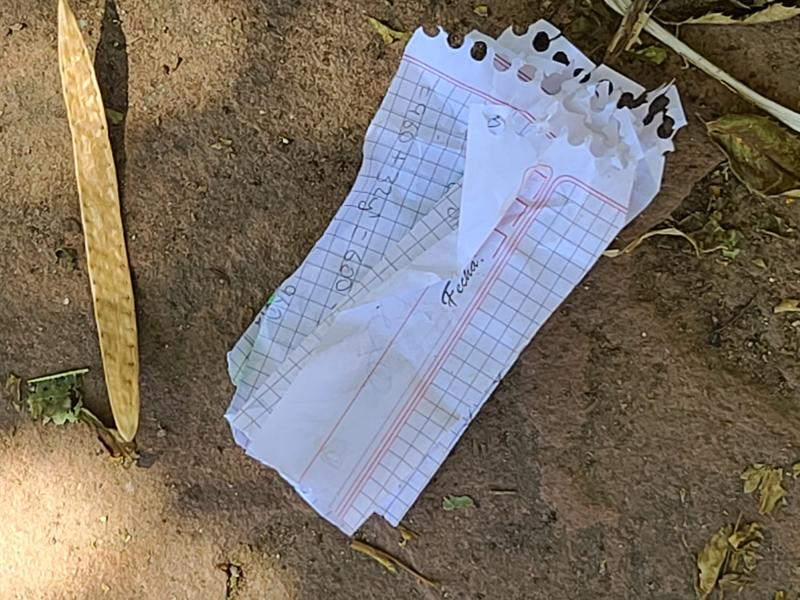papel: (223, 21, 688, 538)
